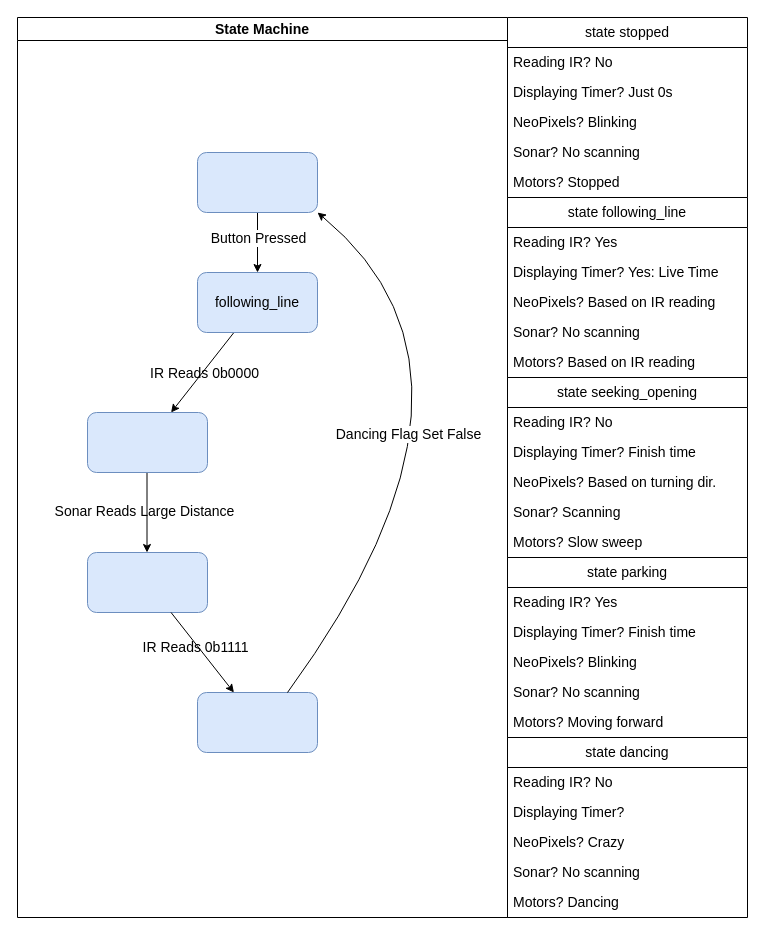
Image size: 765x935. Some labels were removed from this diagram. Each missing label, with the centre of its shape:
"dancing" goes at (257,722).
"parking" goes at (147,582).
"seeking_opening" goes at (147,442).
"stopped" goes at (257,182).
